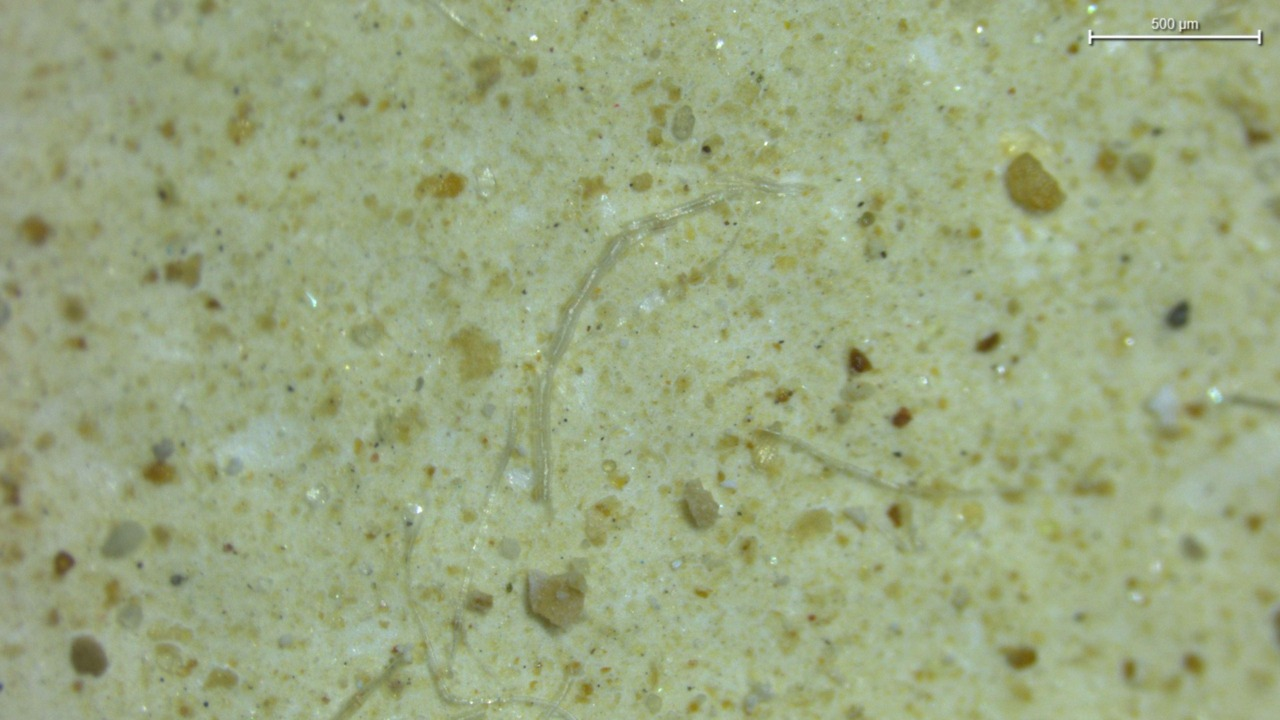microplastic_fragment: (1005, 153, 1064, 211), (528, 571, 585, 629), (684, 479, 719, 529)
